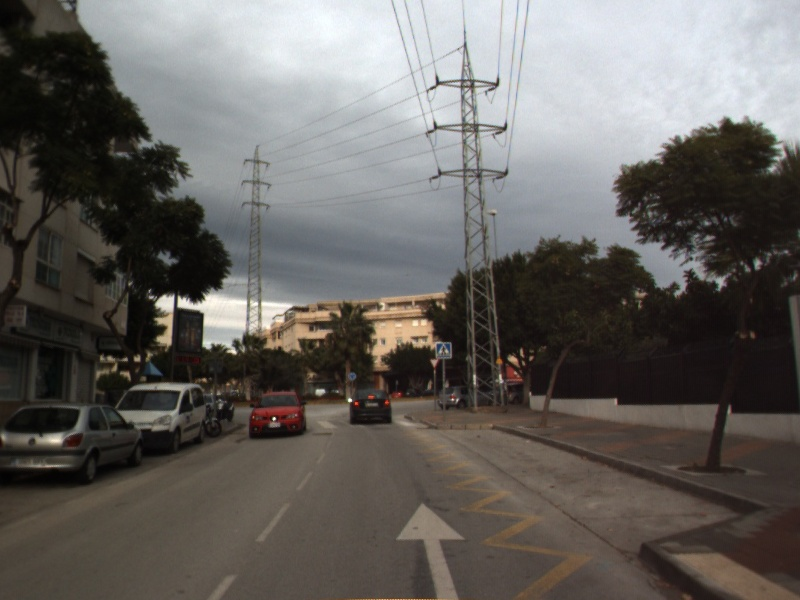STRAIGHT: (393, 498, 470, 600)
